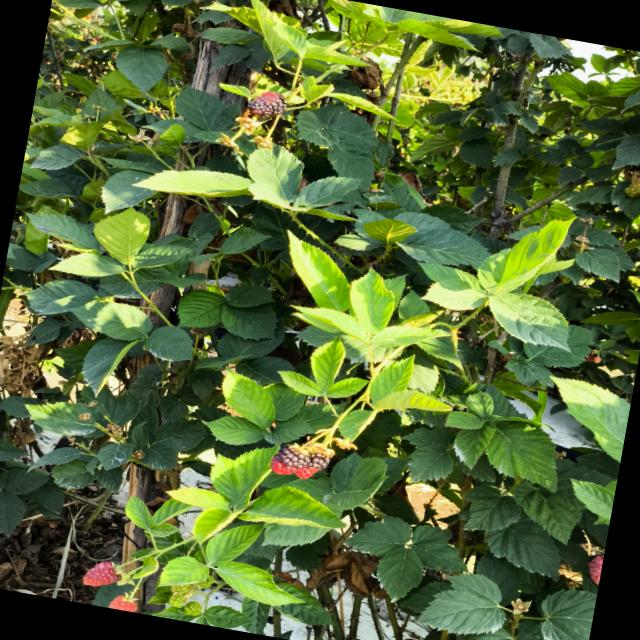marron: (270, 444, 310, 473), (247, 91, 286, 117)
naranja: (83, 561, 121, 586), (108, 595, 137, 612), (588, 555, 603, 584)
verde: (624, 177, 640, 196), (182, 601, 201, 616), (171, 584, 194, 596), (168, 593, 185, 607), (196, 574, 214, 587)
